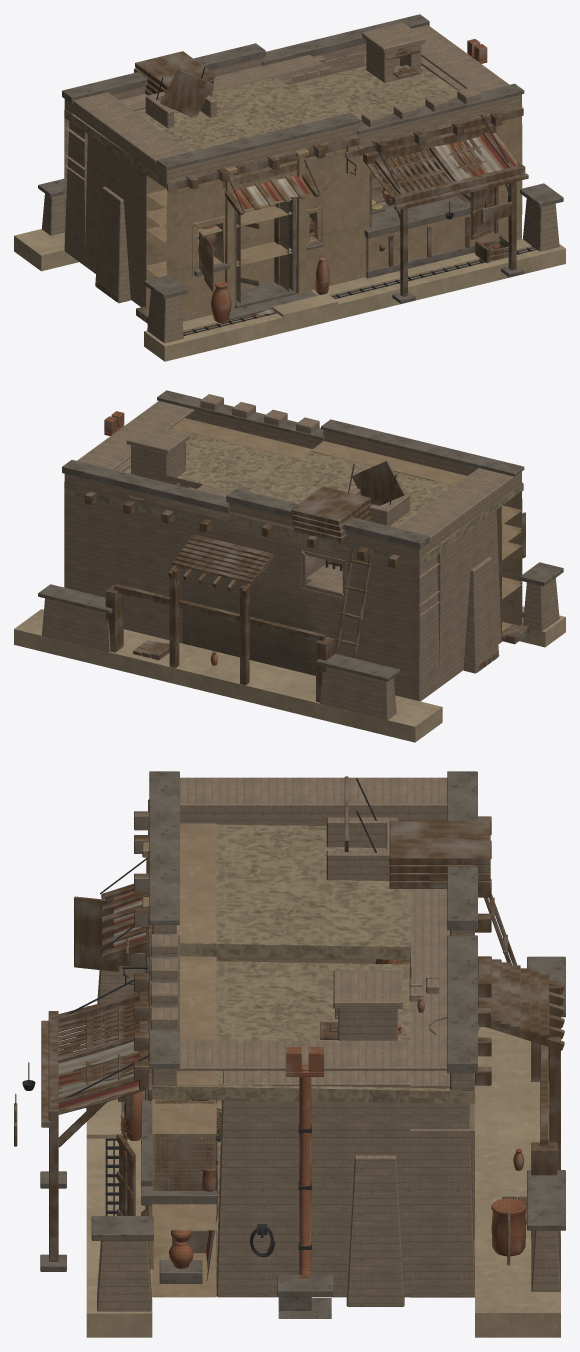
The model's file is shop-row.glb.
3 views of the same model, one above another, from view 1: azimuth 30°, elevation 25°; view 2: azimuth 150°, elevation 25°; view 3: azimuth 270°, elevation 25° (orthographic). The views are drawn at different scales.
Parts seen in each view (by area): view 1: XO3_Mudbrick, XO3_Plaster, XO3_Timber, XO3_Stone, XO3_Earth, XO3_Ground, XO3_Cloth, XO3_Clay, XO3_Iron; view 2: XO3_Mudbrick, XO3_Timber, XO3_Ground, XO3_Earth, XO3_Stone, XO3_Plaster, XO3_Clay; view 3: XO3_Mudbrick, XO3_Timber, XO3_Earth, XO3_Stone, XO3_Ground, XO3_Plaster, XO3_Clay, XO3_Cloth, XO3_Iron.
Boxes of the visible parts, bbox=[...] form: XO3_Mudbrick: bbox=[42, 22, 559, 343]; XO3_Plaster: bbox=[146, 105, 522, 321]; XO3_Timber: bbox=[96, 48, 528, 323]; XO3_Stone: bbox=[38, 14, 563, 320]; XO3_Earth: bbox=[64, 65, 522, 258]; XO3_Ground: bbox=[14, 229, 565, 361]; XO3_Cloth: bbox=[233, 133, 517, 316]; XO3_Clay: bbox=[198, 39, 487, 322]; XO3_Iron: bbox=[156, 67, 536, 335]; XO3_Mudbrick: bbox=[42, 394, 559, 719]; XO3_Timber: bbox=[85, 460, 529, 702]; XO3_Ground: bbox=[14, 606, 565, 742]; XO3_Earth: bbox=[64, 428, 522, 568]; XO3_Stone: bbox=[38, 390, 563, 681]; XO3_Plaster: bbox=[171, 418, 522, 641]; XO3_Clay: bbox=[104, 411, 342, 665]; XO3_Mudbrick: bbox=[97, 777, 560, 1311]; XO3_Timber: bbox=[14, 776, 564, 1265]; XO3_Earth: bbox=[152, 824, 474, 1267]; XO3_Stone: bbox=[40, 771, 565, 1318]; XO3_Ground: bbox=[86, 1006, 560, 1337]; XO3_Plaster: bbox=[142, 823, 216, 1297]; XO3_Clay: bbox=[114, 959, 526, 1278]; XO3_Cloth: bbox=[58, 891, 218, 1280]; XO3_Iron: bbox=[15, 778, 376, 1257].
Bounding box in the file's own units: 8.92 × 4.37 × 6.67.
17 materials, 11 textured.
